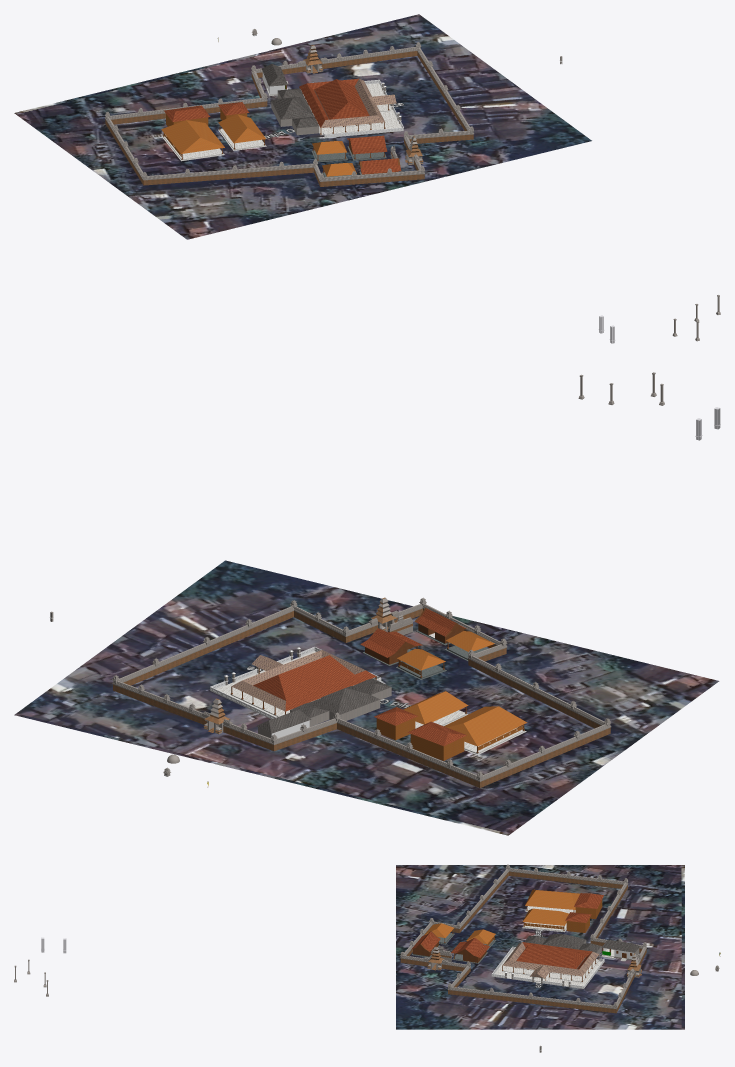
File: ISTANA_MATARAM.gltf
3 views of the same model, one above another, from view 1: azimuth 30°, elevation 25°; view 2: azimuth 150°, elevation 25°; view 3: azimuth 270°, elevation 25° (orthographic). The views are drawn at different scales.
Parts seen in each view (by area): view 1: 3DGeom-3, 3DGeom-4, 3DGeom-1, 3DGeom-17, 3DGeom-18, 3DGeom-21, 3DGeom-19, 3DGeom-15, 3DGeom-13, 3DGeom-6, 3DGeom-11, 3DGeom-25; view 2: 3DGeom-3, 3DGeom-4, 3DGeom-1, 3DGeom-17, 3DGeom-18, 3DGeom-21, 3DGeom-19, 3DGeom-13, 3DGeom-23, 3DGeom-6, 3DGeom-15, 3DGeom-2 (+1 smaller); view 3: 3DGeom-3, 3DGeom-4, 3DGeom-1, 3DGeom-17, 3DGeom-18, 3DGeom-21, 3DGeom-19, 3DGeom-13, 3DGeom-15, 3DGeom-11, 3DGeom-9, 3DGeom-23 (+2 smaller).
Part boxes in pixels (x1,y1,x2,y2): 3DGeom-3: (14,14,591,239); 3DGeom-4: (105,38,720,341); 3DGeom-1: (105,51,473,186); 3DGeom-17: (161,114,356,176); 3DGeom-18: (164,78,401,174); 3DGeom-21: (261,64,318,128); 3DGeom-19: (314,79,369,119); 3DGeom-15: (162,94,390,161); 3DGeom-13: (321,79,396,127); 3DGeom-6: (328,46,469,146); 3DGeom-11: (218,81,401,150); 3DGeom-25: (311,146,386,177); 3DGeom-3: (14,560,719,835); 3DGeom-4: (112,374,656,781); 3DGeom-1: (113,608,610,787); 3DGeom-17: (397,631,527,750); 3DGeom-18: (285,608,466,746); 3DGeom-21: (256,678,391,733); 3DGeom-19: (253,655,354,700); 3DGeom-13: (231,650,365,711); 3DGeom-23: (376,717,464,760); 3DGeom-6: (116,606,370,716); 3DGeom-15: (230,671,526,755); 3DGeom-2: (224,627,412,738); 3DGeom-3: (396,865,684,1029); 3DGeom-4: (14,864,698,1009); 3DGeom-1: (400,871,646,1013); 3DGeom-17: (424,889,579,945); 3DGeom-18: (411,893,603,969); 3DGeom-21: (524,934,639,952); 3DGeom-19: (516,945,585,968); 3DGeom-13: (502,942,598,978); 3DGeom-15: (502,906,614,982); 3DGeom-11: (494,922,626,987); 3DGeom-9: (491,946,633,988); 3DGeom-23: (566,899,602,932).
Size of the model in its own units: 149 by 8.13 by 237.
